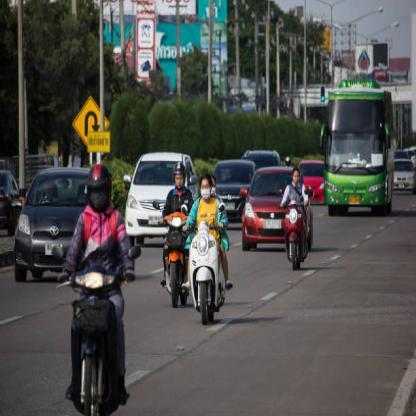Motorcycle: (55, 244, 144, 415), (184, 216, 234, 322), (161, 196, 194, 306), (277, 186, 309, 267)
